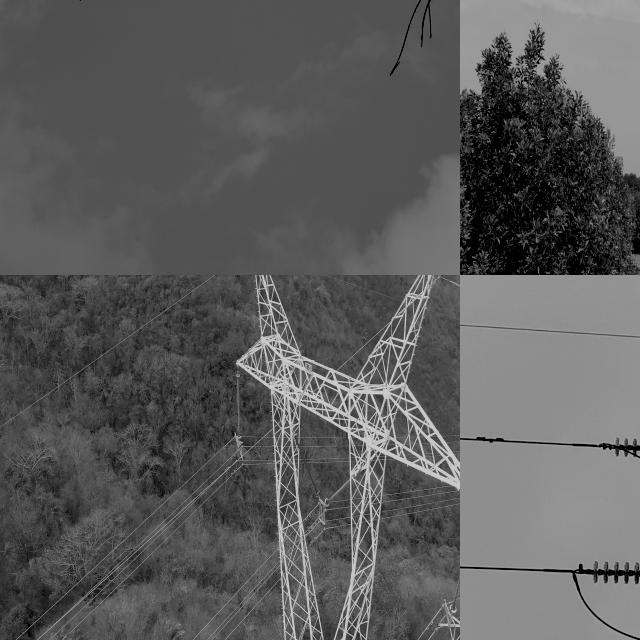杆塔: (231, 275, 460, 640)
正常绝缘子: (585, 553, 640, 590), (293, 432, 321, 499), (599, 431, 640, 464), (324, 473, 356, 507), (448, 560, 460, 615), (236, 373, 242, 440)
电缆破损: (0, 0, 460, 59)
